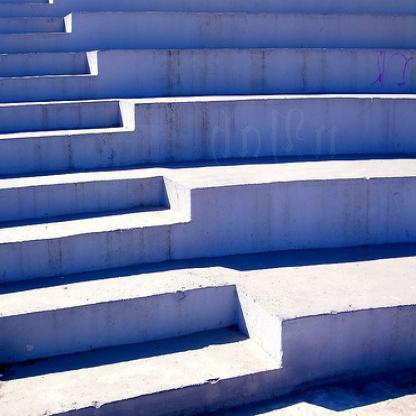stairs: (5, 163, 164, 381)
